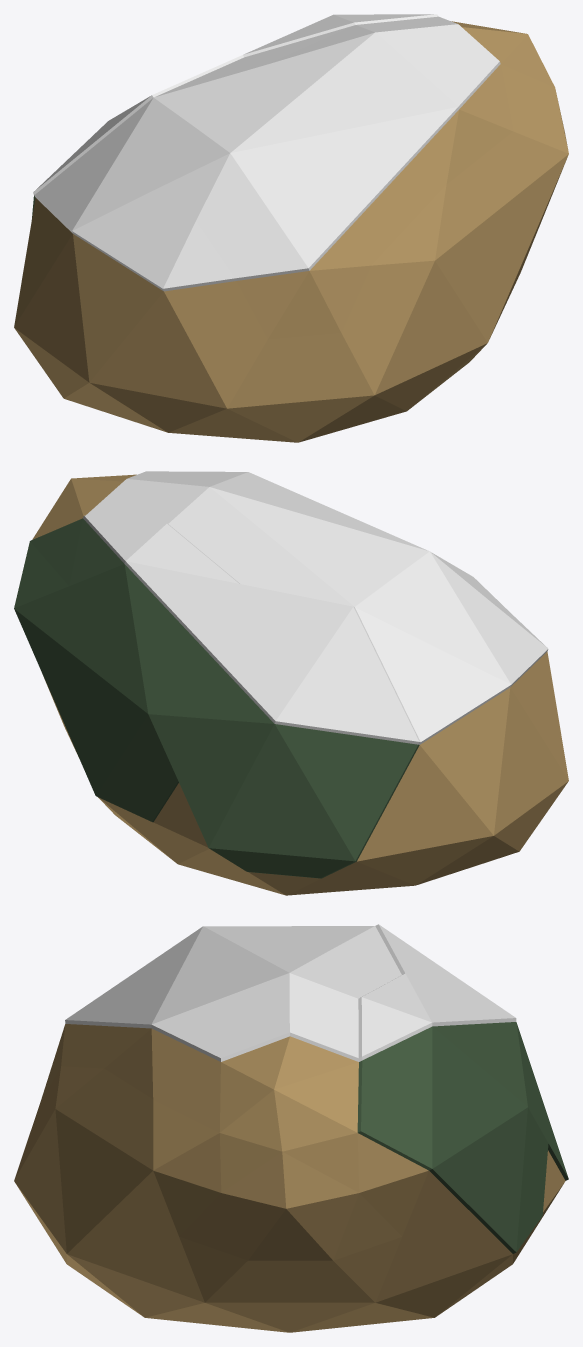
File: MossStoneNb.fbx
3 renders of one model, top to bottom at view 1: azimuth 30°, elevation 25°; view 2: azimuth 150°, elevation 25°; view 3: azimuth 270°, elevation 25°, orthographic. The views are drawn at different scales.
Visible parts, largest first — view 1: MossStoneN.001; view 2: MossStoneN.001; view 3: MossStoneN.001.
Boxes of the visible parts, bbox=[...] form: MossStoneN.001: bbox=[14, 14, 568, 442]; MossStoneN.001: bbox=[14, 471, 568, 895]; MossStoneN.001: bbox=[14, 924, 568, 1332].
Bounding box in the file's own units: 1084 × 601 × 918.
